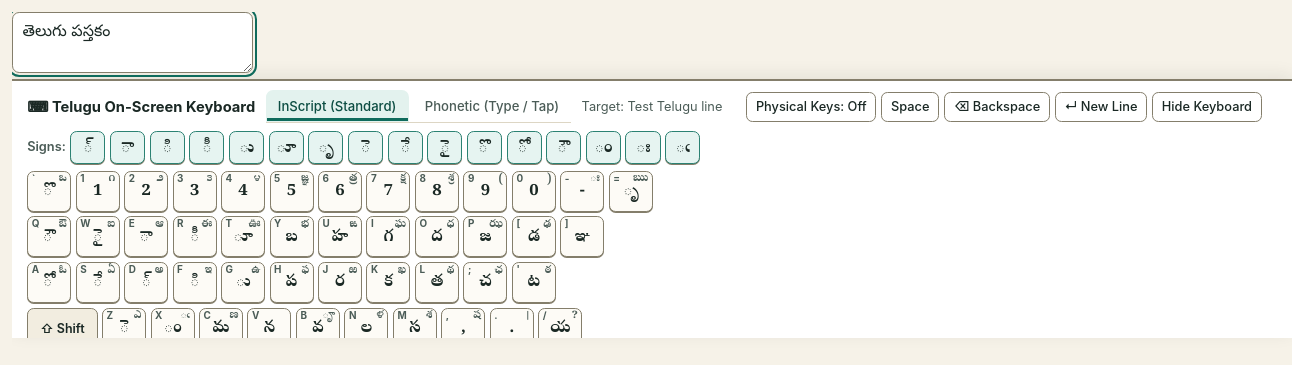
TeluguKeyboard component › switches between InScript Shift layer, Phonetic composer, and inserts at caret in React textarea
Click the button named "Insert u sign" at (246, 148), box [229,131,264,164]
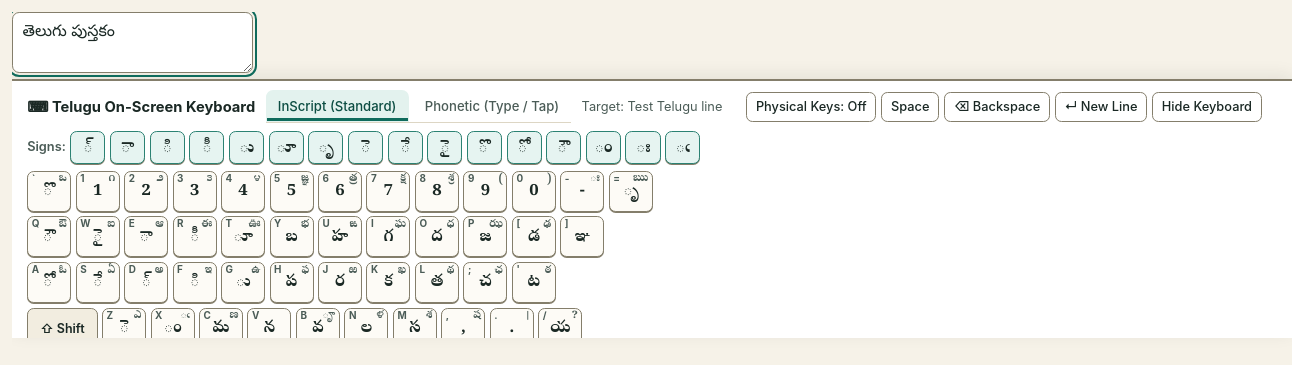
Expected: the text box named "Test Telugu line" holds "తెలుగు పుస్తకం", [12,12,253,72]
Click the button with aria-label "Backspace in active Telugu text" at (997, 107), box [944,92,1050,122]
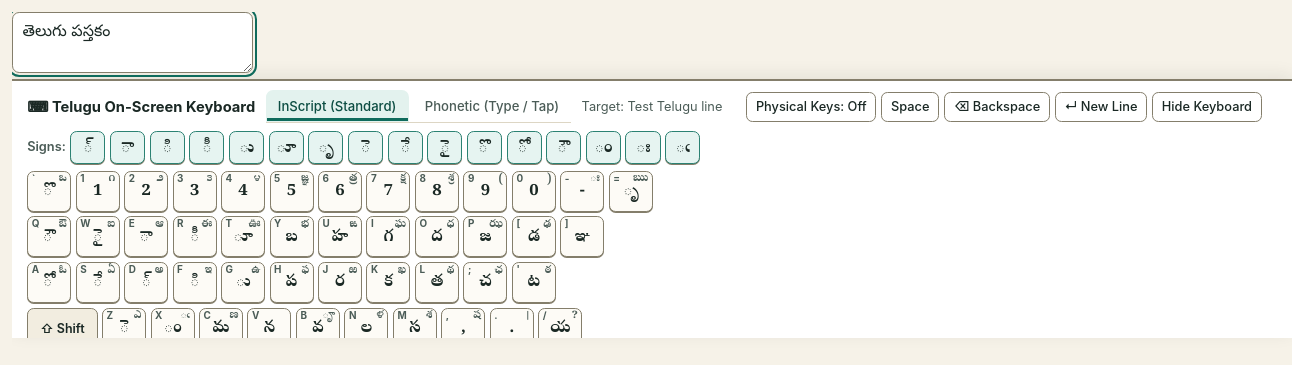
Expected: the text box named "Test Telugu line" holds "తెలుగు పస్తకం", [12,12,253,72]
Click the button "⇧ Shift" at (62, 328), box [27,308,98,348]
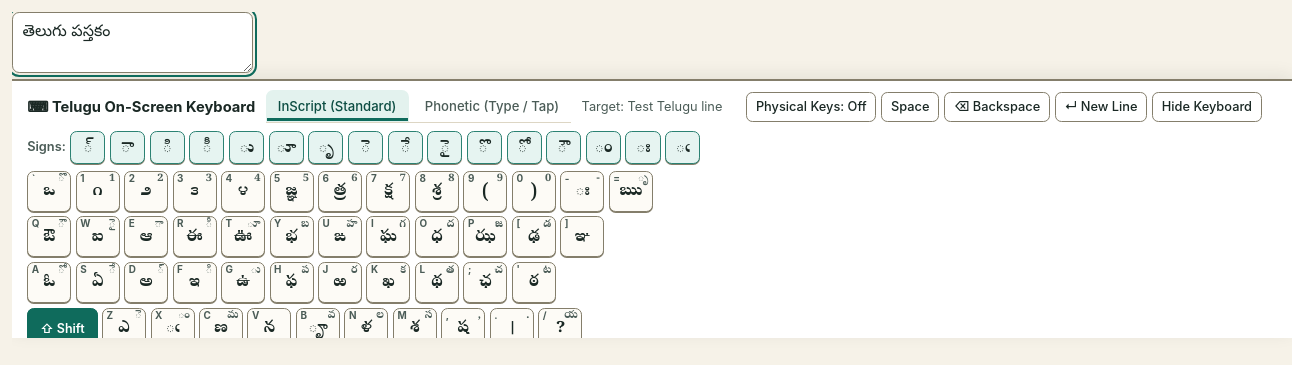
Expected: the button named "Key K inserts ఖ" is shown, [366,262,410,303]
Expected: the button named "Key D inserts అ" is shown, [124,262,168,303]
Click the tab "Phonetic (Type / Tap)" at (492, 106), box [413,90,571,122]
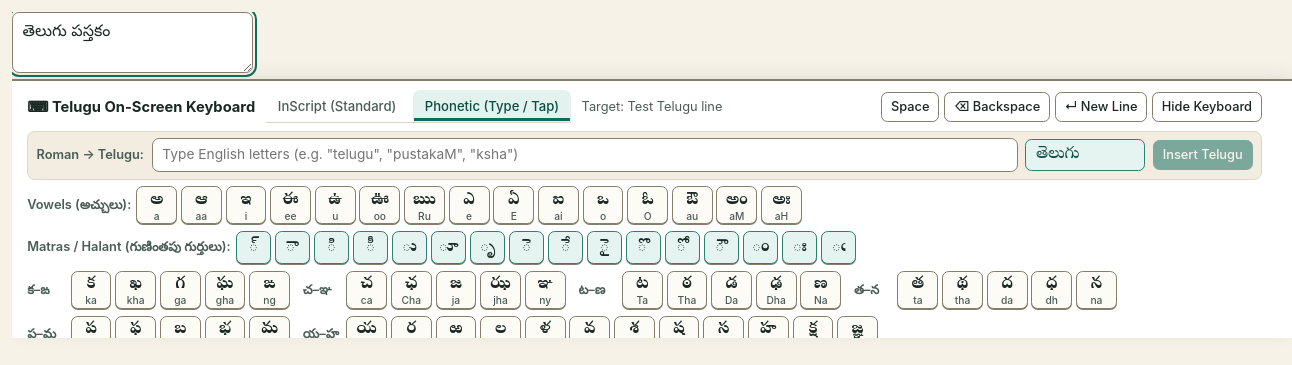
Expected: the tab "Phonetic (Type / Tap)" is selected, [413,90,571,122]
Type "telugu" into the field labelled "Roman → Telugu:" at (585, 155), box [152,138,1018,172]
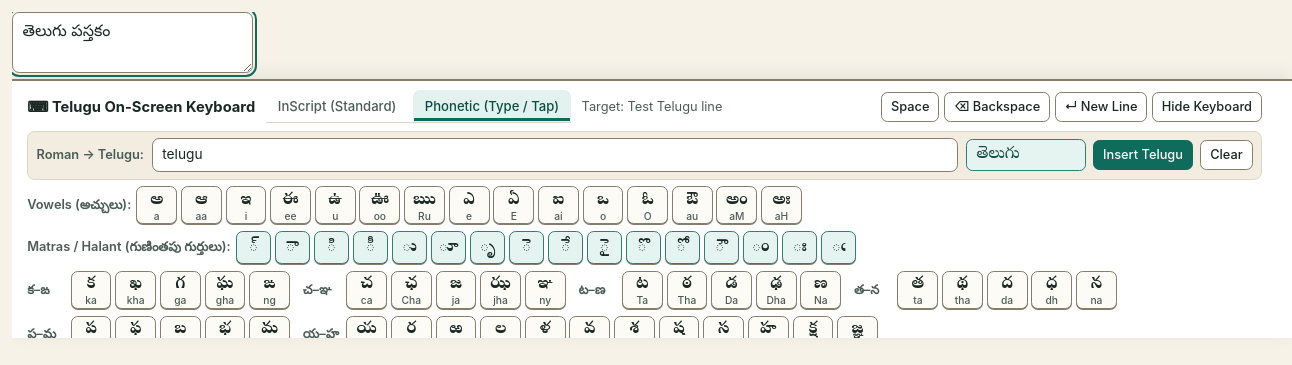
Expected: the text named "Converted Telugu preview" reads "తెలుగు", [976,143,1020,166]
Click the button "Insert Telugu" at (1143, 155), box [1093,140,1193,170]
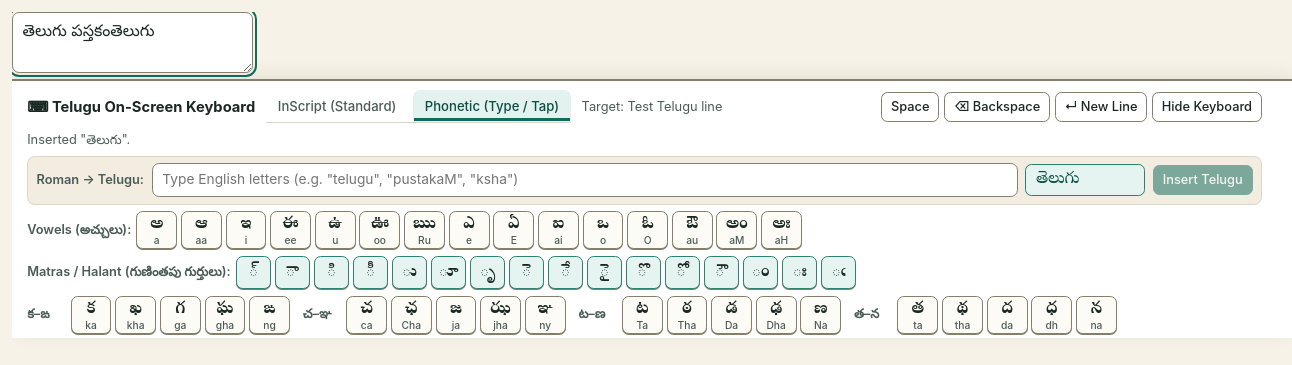
Expected: the text box named "Test Telugu line" holds "తెలుగు పస్తకంతెలుగు", [12,12,253,72]
